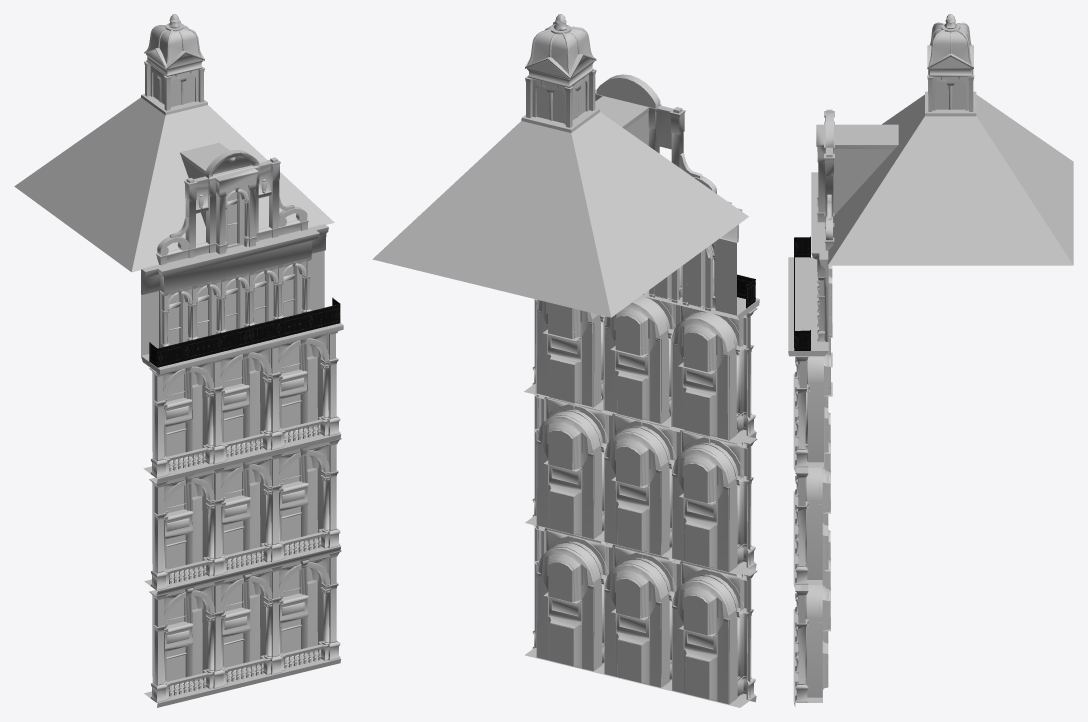
Rendered from Hotelwall.fbx.
3 views of the same model, side by side, from view 1: azimuth 30°, elevation 25°; view 2: azimuth 150°, elevation 25°; view 3: azimuth 270°, elevation 25° (orthographic). The views are drawn at different scales.
Parts seen in each view (by area): view 1: LODGroup_2_MainMesh_1_SubMesh_1, LODGroup_2_MainMesh_1_SubMesh_6, LODGroup_2_MainMesh_1_SubMesh_5, LODGroup_2_MainMesh_1_SubMesh_2, LODGroup_2_MainMesh_1_SubMesh_3, LODGroup_2_MainMesh_1_SubMesh_4; view 2: LODGroup_2_MainMesh_1_SubMesh_1, LODGroup_2_MainMesh_1_SubMesh_6, LODGroup_2_MainMesh_1_SubMesh_3; view 3: LODGroup_2_MainMesh_1_SubMesh_6, LODGroup_2_MainMesh_1_SubMesh_1, LODGroup_2_MainMesh_1_SubMesh_3, LODGroup_2_MainMesh_1_SubMesh_5.
Boxes of the visible parts, x1,y1,x2,y2 form: LODGroup_2_MainMesh_1_SubMesh_1: [141, 14, 343, 707]; LODGroup_2_MainMesh_1_SubMesh_6: [14, 97, 334, 272]; LODGroup_2_MainMesh_1_SubMesh_5: [149, 297, 340, 367]; LODGroup_2_MainMesh_1_SubMesh_2: [169, 424, 321, 696]; LODGroup_2_MainMesh_1_SubMesh_3: [141, 157, 324, 355]; LODGroup_2_MainMesh_1_SubMesh_4: [167, 419, 323, 685]; LODGroup_2_MainMesh_1_SubMesh_1: [521, 14, 759, 707]; LODGroup_2_MainMesh_1_SubMesh_6: [372, 112, 748, 317]; LODGroup_2_MainMesh_1_SubMesh_3: [625, 112, 736, 315]; LODGroup_2_MainMesh_1_SubMesh_6: [827, 94, 1073, 265]; LODGroup_2_MainMesh_1_SubMesh_1: [788, 14, 976, 706]; LODGroup_2_MainMesh_1_SubMesh_3: [833, 148, 893, 214]; LODGroup_2_MainMesh_1_SubMesh_5: [794, 236, 810, 350].
Size of the model in its own units: 870 by 2523 by 1009.
